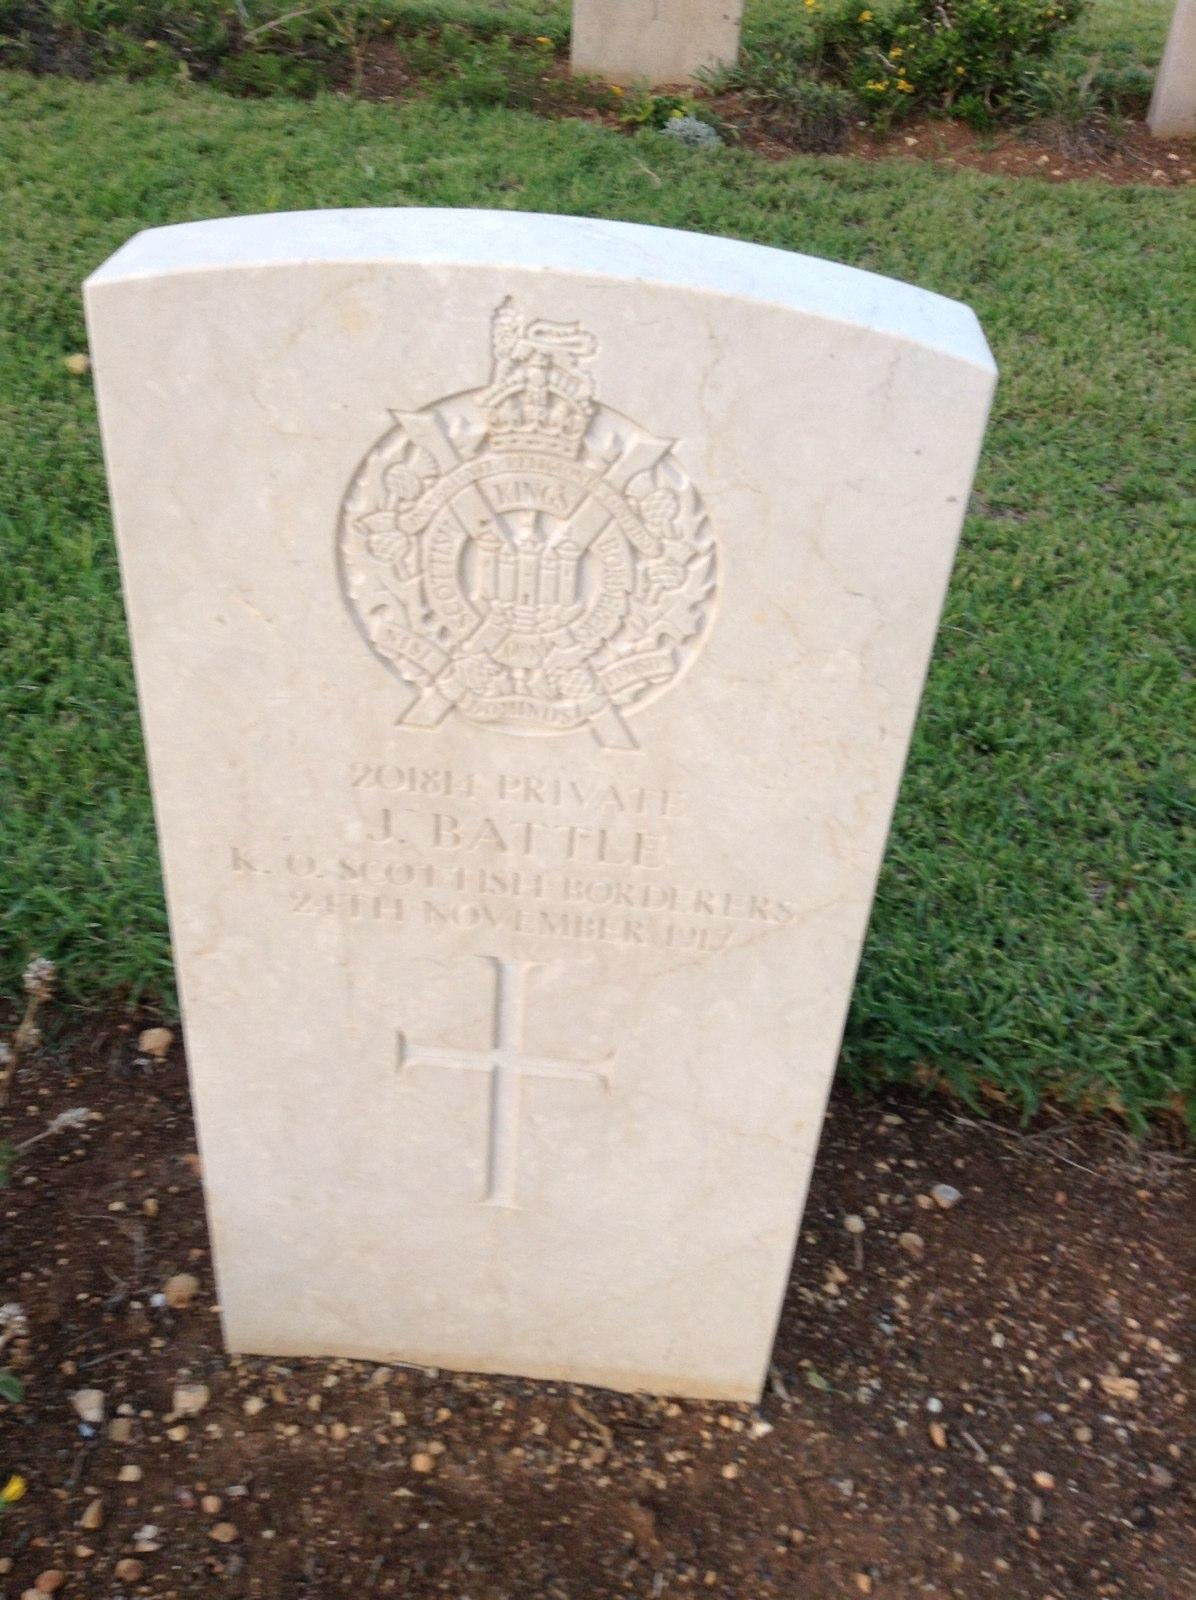military: (80, 190, 998, 1413)
